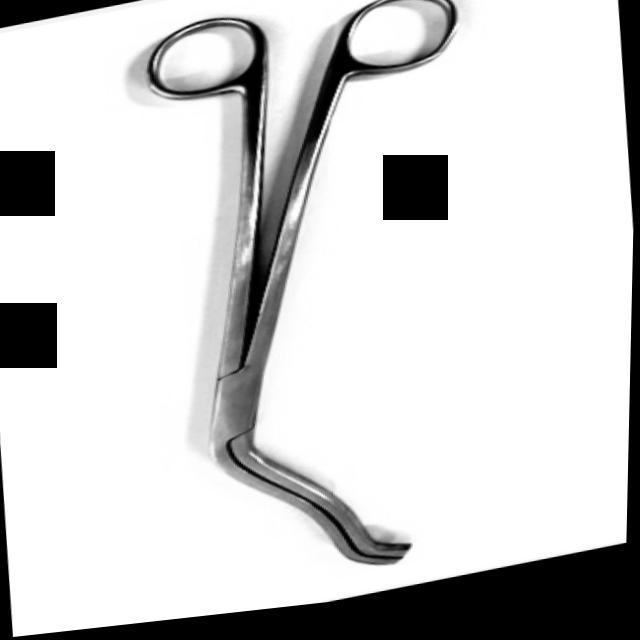Cheatle Forceps: (107, 0, 510, 626)
